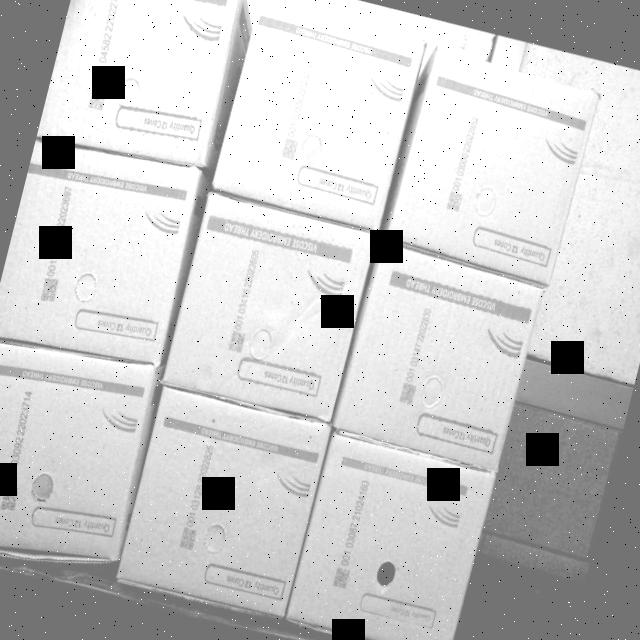box: (210, 0, 425, 231), (0, 130, 204, 371), (333, 240, 544, 472), (117, 387, 330, 616), (388, 46, 596, 279), (163, 194, 374, 420), (288, 435, 496, 640), (0, 328, 158, 586), (37, 0, 247, 170)
